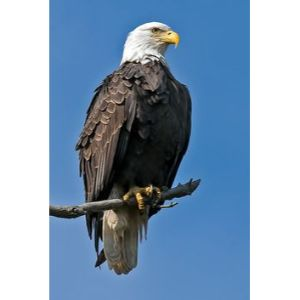eagle: (77, 22, 205, 273)
